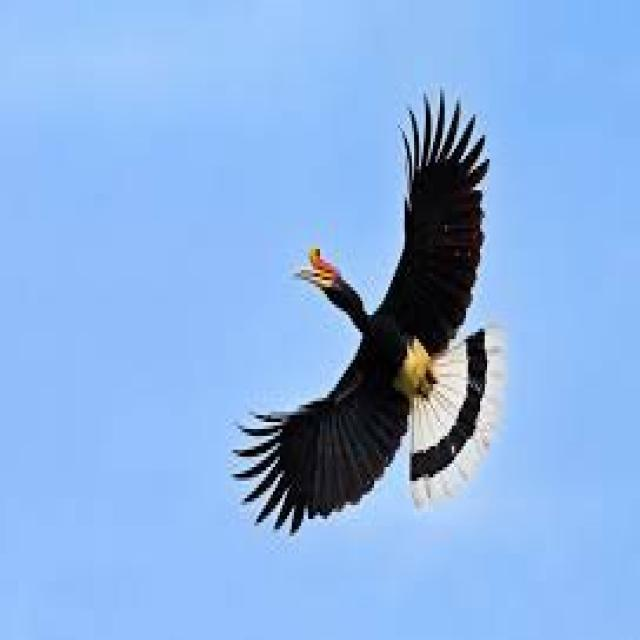Hornbill: (249, 110, 502, 530)
